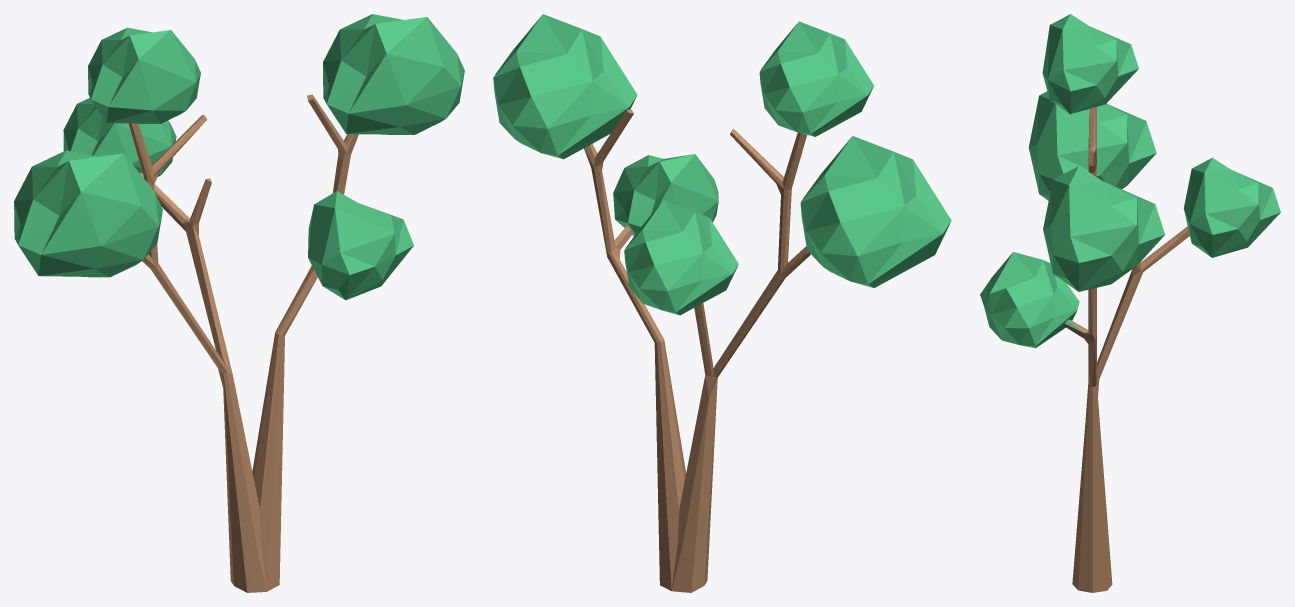
The model's file is tree50.fbx.
The picture shows the model from 3 angles, left to right: view 1: azimuth 30°, elevation 25°; view 2: azimuth 150°, elevation 25°; view 3: azimuth 270°, elevation 25°; orthographic projection. The views are drawn at different scales.
Parts seen in each view (by area): view 1: treetype50; view 2: treetype50; view 3: treetype50.
Boxes of the visible parts, x1,y1,x2,y2 form: treetype50: (14, 14, 464, 592); treetype50: (493, 14, 951, 592); treetype50: (980, 14, 1280, 592).
Bounding box in the file's own units: 203 × 252 × 134.
